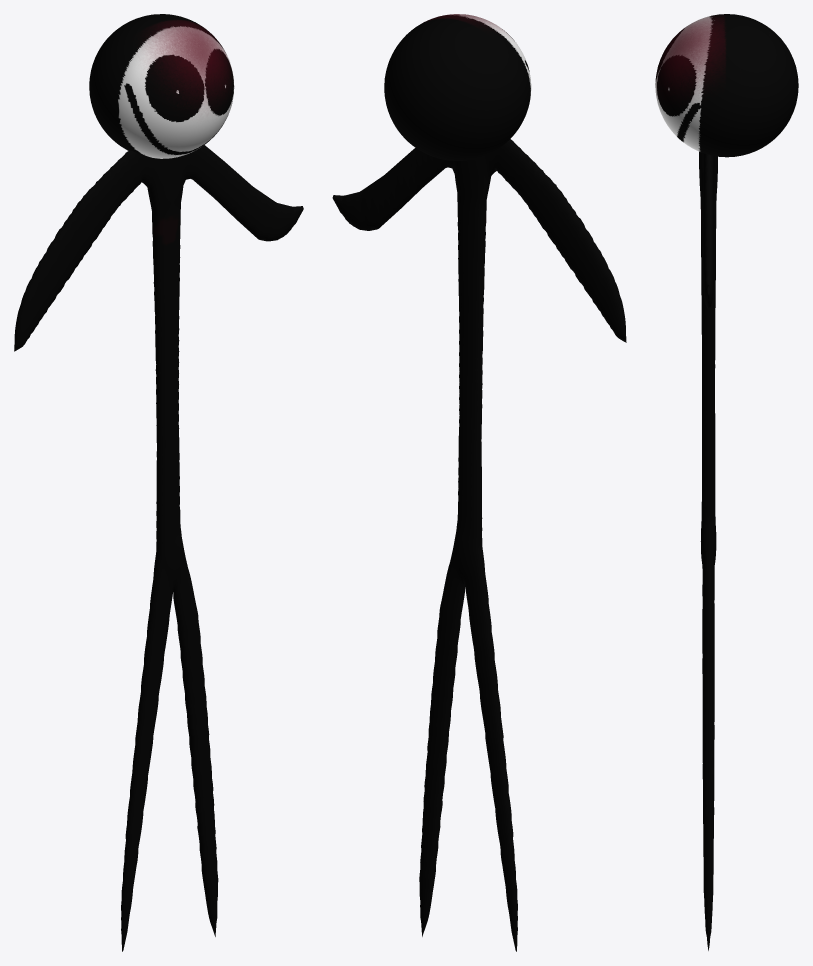
File: shadow.glb
The picture shows the model from 3 angles, left to right: view 1: azimuth 30°, elevation 25°; view 2: azimuth 150°, elevation 25°; view 3: azimuth 270°, elevation 25°; orthographic projection. The views are drawn at different scales.
Visible parts, largest first — view 1: mesh_id30, mesh_id29; view 2: mesh_id30, mesh_id29; view 3: mesh_id29, mesh_id30.
Part boxes in pixels (box(x1,y1,x2,y2)): mesh_id30: box(14, 145, 303, 951); mesh_id29: box(89, 14, 234, 158); mesh_id30: box(332, 139, 626, 951); mesh_id29: box(384, 14, 531, 160); mesh_id29: box(655, 14, 798, 157); mesh_id30: box(699, 151, 717, 950).
Bounding box in the file's own units: 0.1744 × 0.5295 × 0.0756.
Materials: 2 (2 with a texture image).
